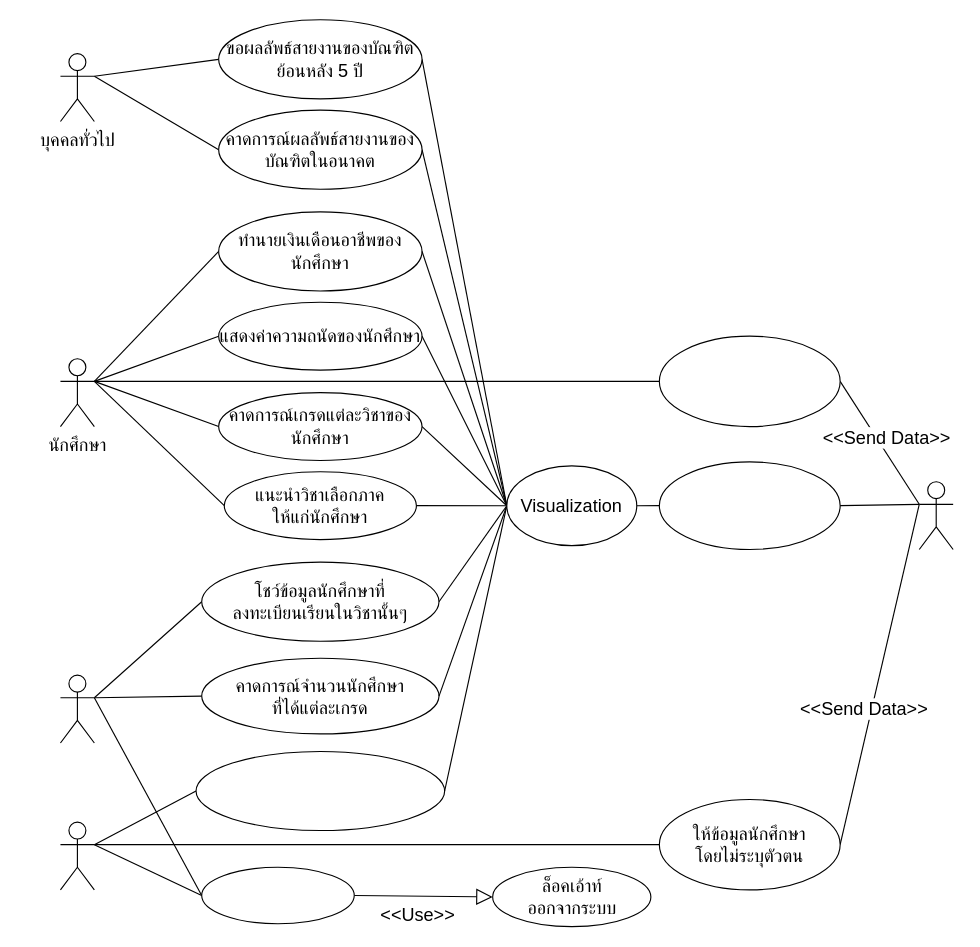
Image size: 980x947. Some labels were removed from this diagram. The centre of each missing label's shape, as x and y in pixels:
กรรมการหลักสูตร: (76,855)
กรอกฟอร์มเกรดแต่ละวิชาโดยไม่ระบุตัวตน: (749,381)
คาดการณ์จำนวนนักศึกษาที่มี โอกาสเรียนไม่จบ และลาออก: (320,790)
ทำนายพยากรณ์ ผลลัพธ์และคาดการณ์: (749,505)
ล็อคอิน เข้าใช้งาน: (277,895)
อาจารย์: (76,708)
แอดมิน: (935,515)
